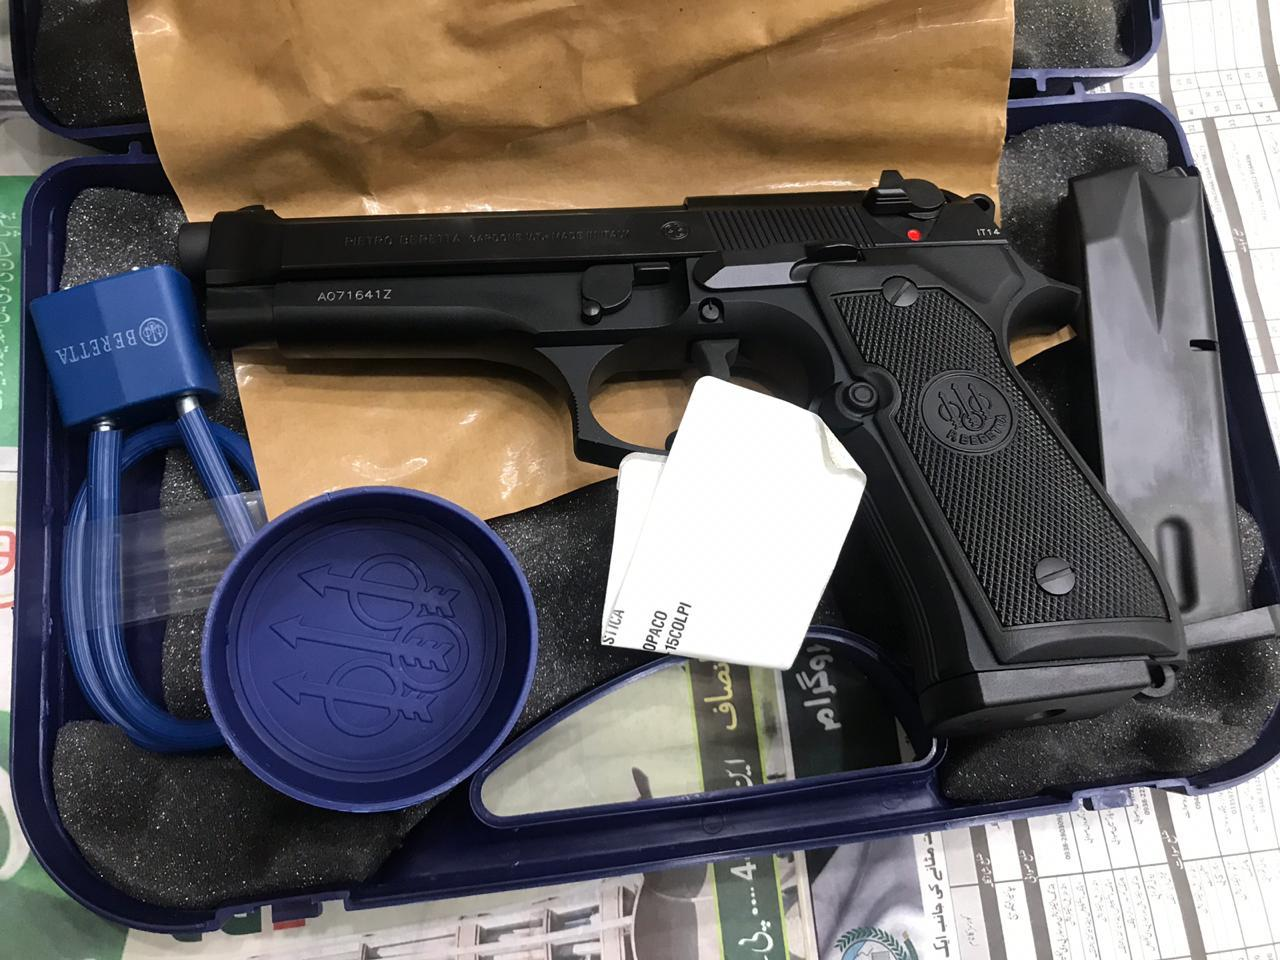weapon: (172, 166, 1190, 723)
